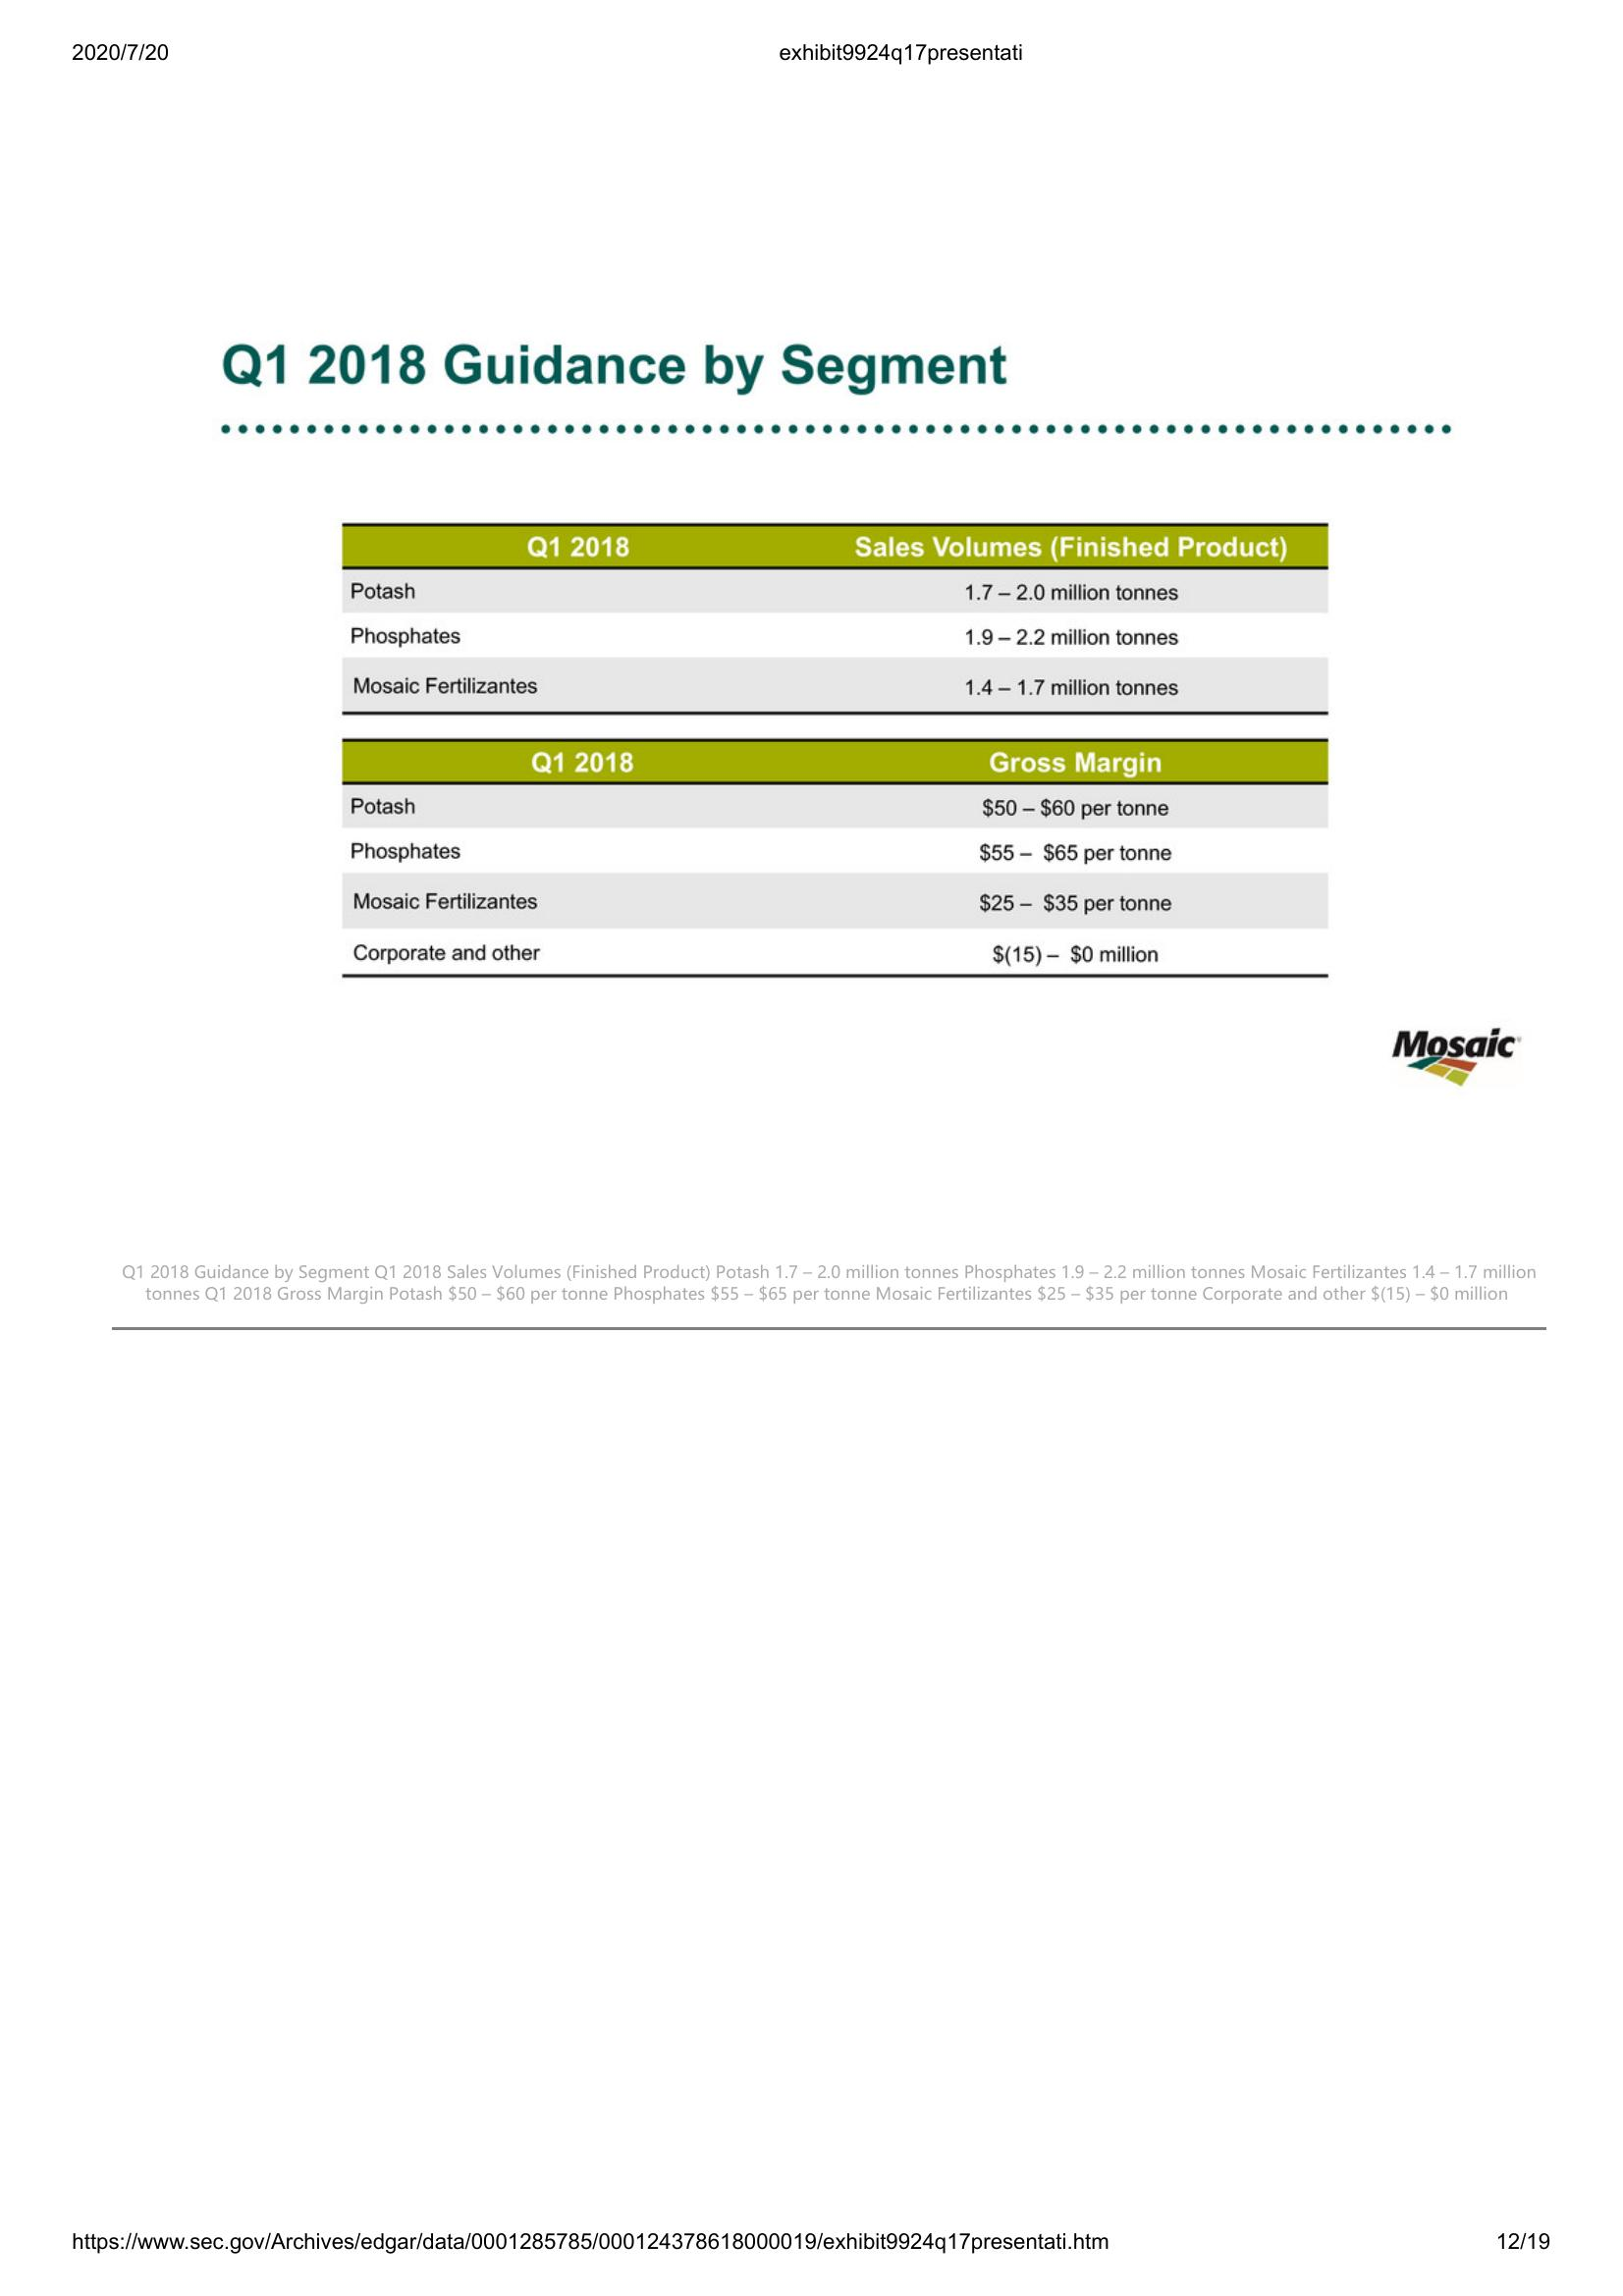table: (335, 518, 1342, 981)
